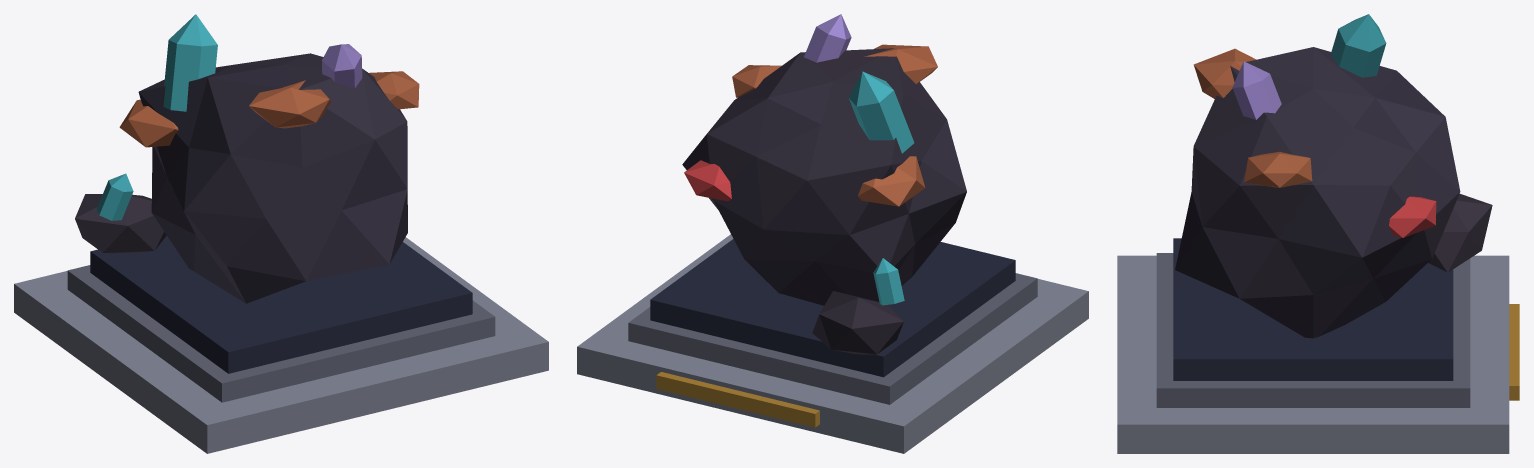
Rendered from Decor_Observatory_Meteorite.fbx.
The picture shows the model from 3 angles, left to right: view 1: azimuth 30°, elevation 25°; view 2: azimuth 150°, elevation 25°; view 3: azimuth 270°, elevation 25°; orthographic projection. The views are drawn at different scales.
Visible parts, largest first — view 1: Meteorite_Body; view 2: Meteorite_Body; view 3: Meteorite_Body.
Boxes of the visible parts, <box> form: Meteorite_Body: <box>14,14,548,453</box>; Meteorite_Body: <box>577,14,1088,453</box>; Meteorite_Body: <box>1117,14,1519,453</box>.
Size of the model in its own units: 7 by 6.3 by 7.03.
